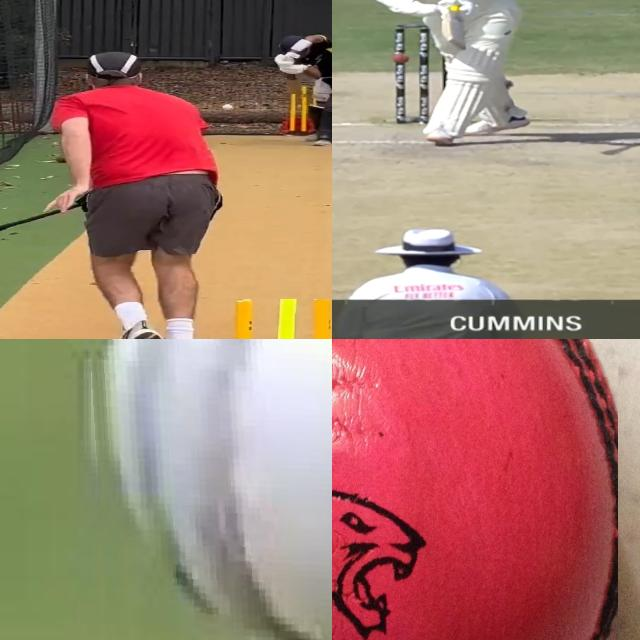Cricket ball: (332, 339, 618, 640), (78, 339, 332, 640), (392, 53, 412, 63), (220, 104, 236, 112)
